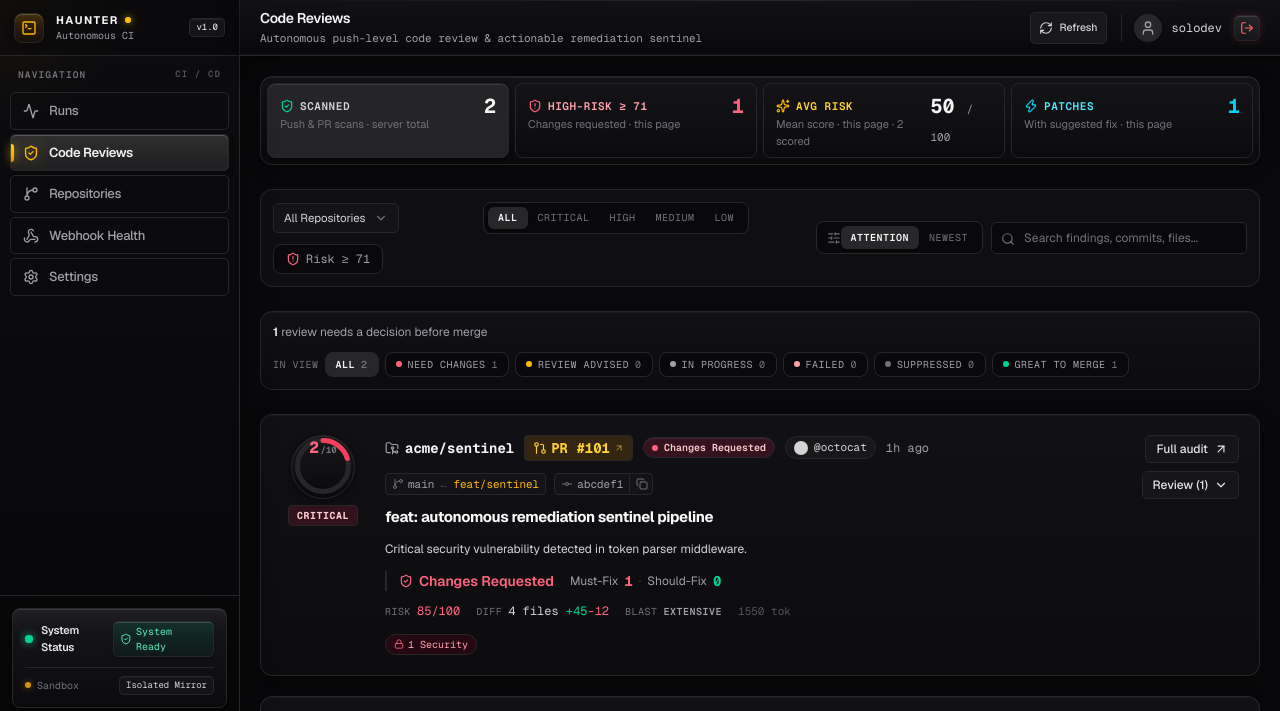
Test: ReviewsPage (app/reviews/page.tsx) › renders syntax-highlighted diff viewer and actionable finding buttons
Note: Wait for card to appear and expand the findings accordion
Click the button "Review (1)": coordinates (1190, 485) [1142,471,1239,499]
(page scrolled)
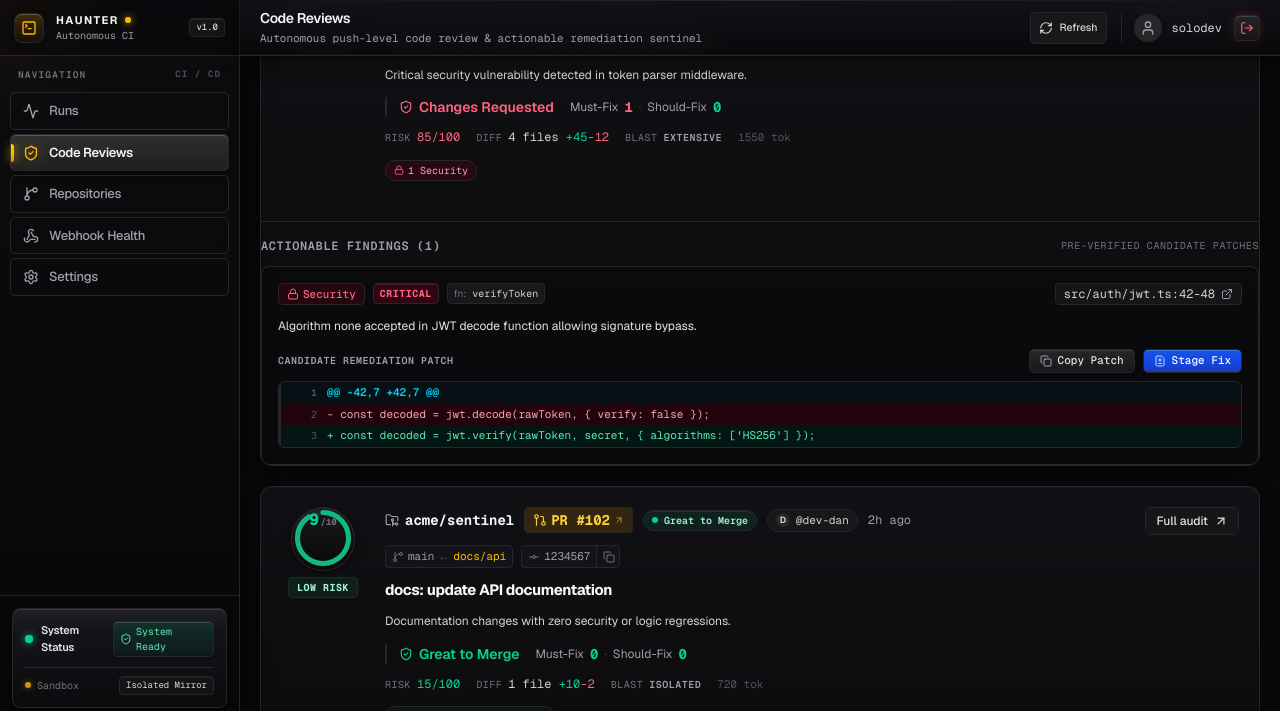
Expected: the text "Actionable Findings (1)" is shown, [261,238,440,254]
Expected: the text "@@ -42,7 +42,7 @@" is shown, [327,385,439,399]
Expected: the text "- const decoded = jwt.decode(rawToken, { verify: false });" is shown, [327,407,710,421]
Note: Test Copy Patch
Click the button "Copy Patch": coordinates (1082, 361) [1029,349,1135,373]
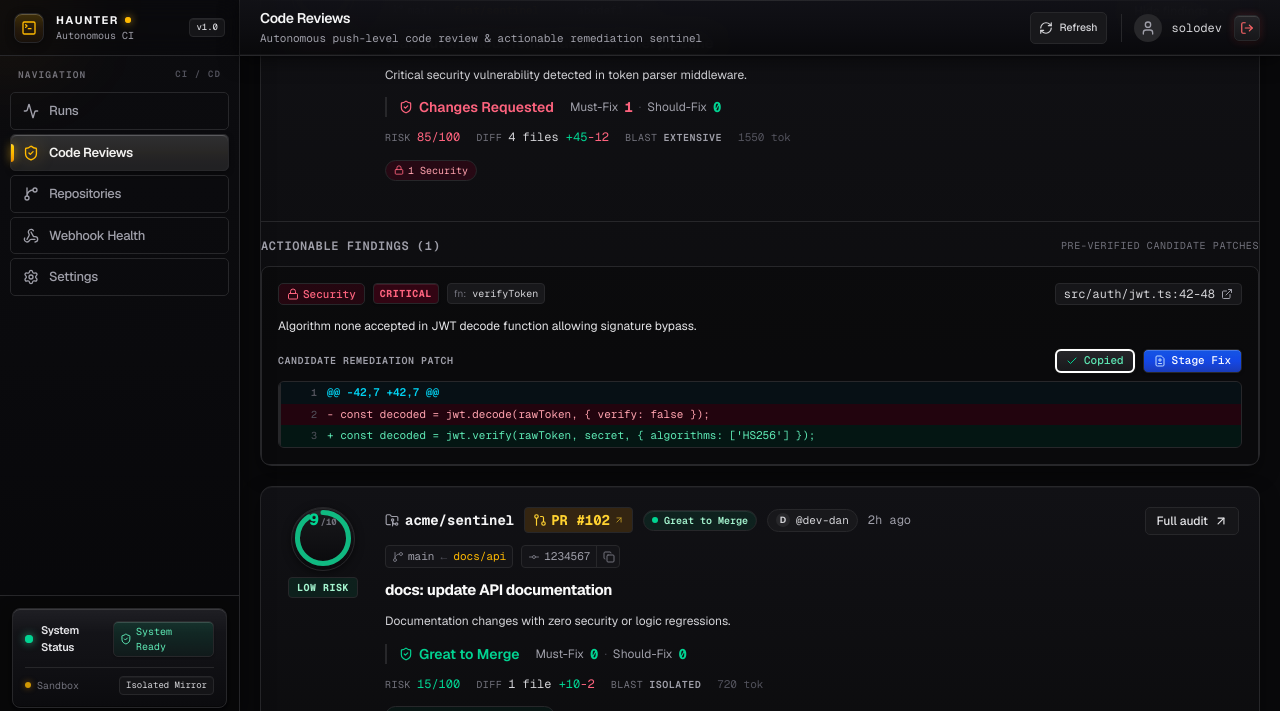
Expected: the text "Copied" is shown, [1084,352,1124,369]
Note: Test Stage Fix
Click the button "Stage Fix": coordinates (1192, 361) [1143,349,1242,373]
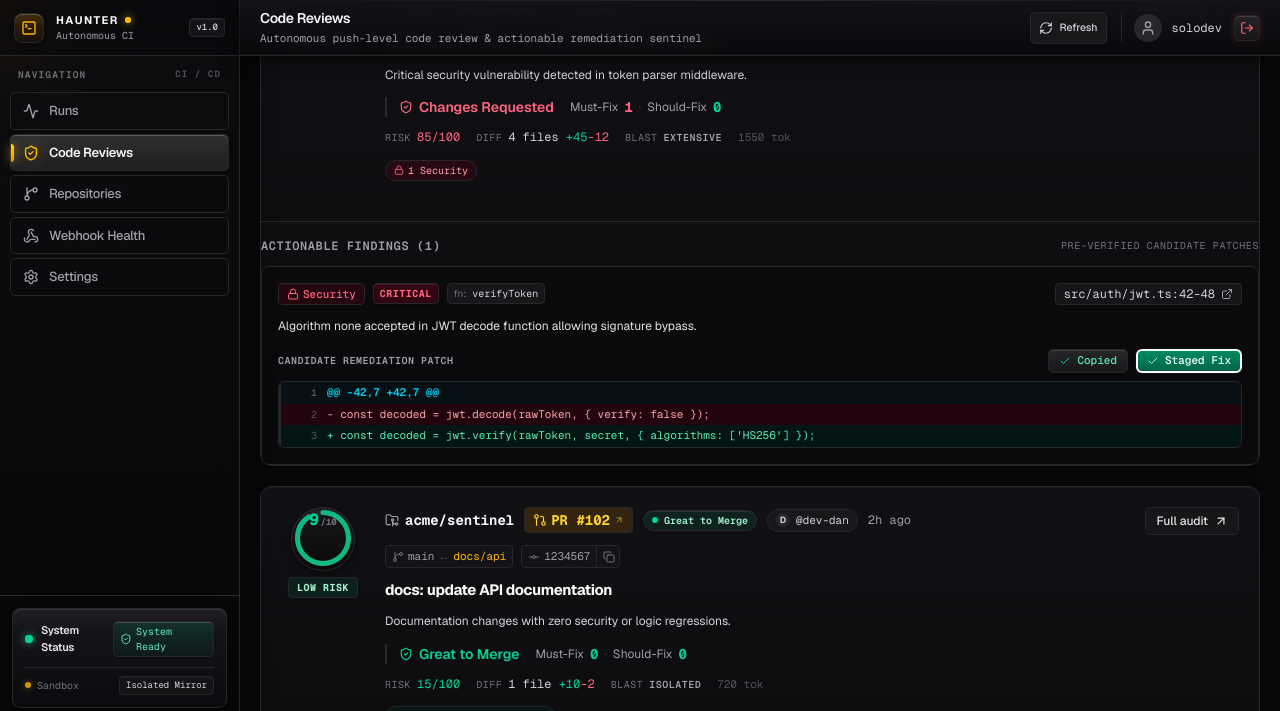
Expected: the text "Staged Fix" is shown, [1165,352,1231,369]
